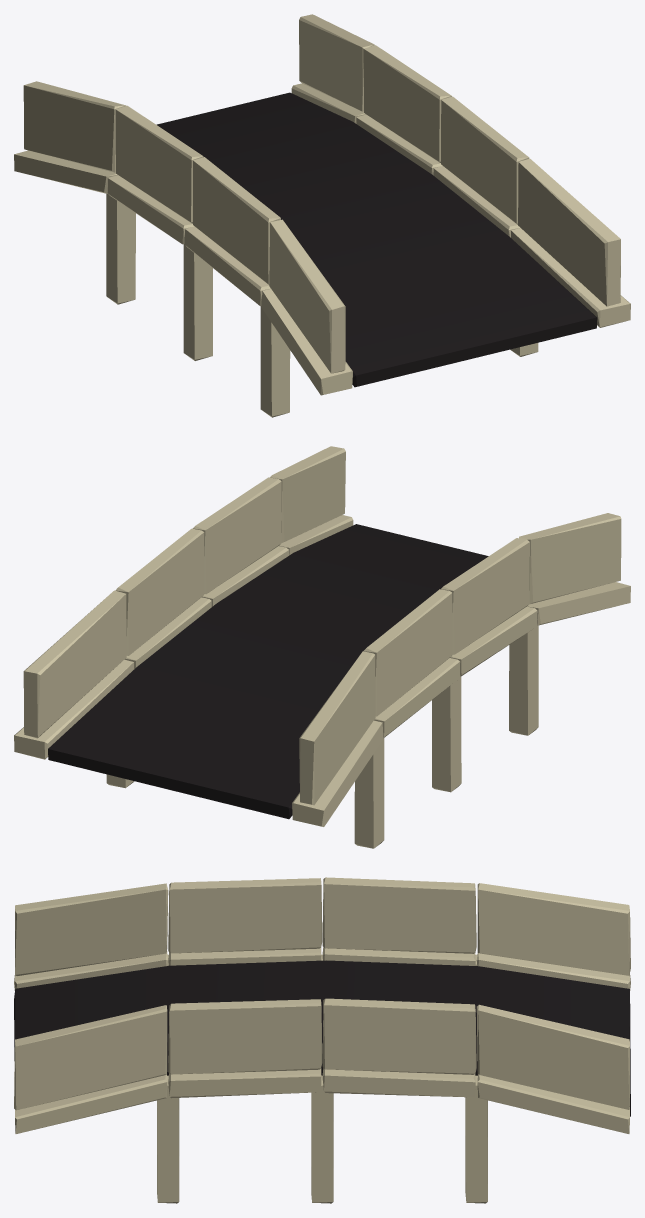
The model's file is bridge.fbx.
3 views of the same model, one above another, from view 1: azimuth 30°, elevation 25°; view 2: azimuth 150°, elevation 25°; view 3: azimuth 270°, elevation 25° (orthographic).
Visible parts, largest first — view 1: köprü1; view 2: köprü1; view 3: köprü1.
Boxes of the visible parts, box(x1,y1,x2,y2) form: köprü1: box(14, 14, 630, 417); köprü1: box(14, 446, 630, 848); köprü1: box(14, 877, 630, 1203).
Size of the model in its own units: 116 by 71.15 by 200.
